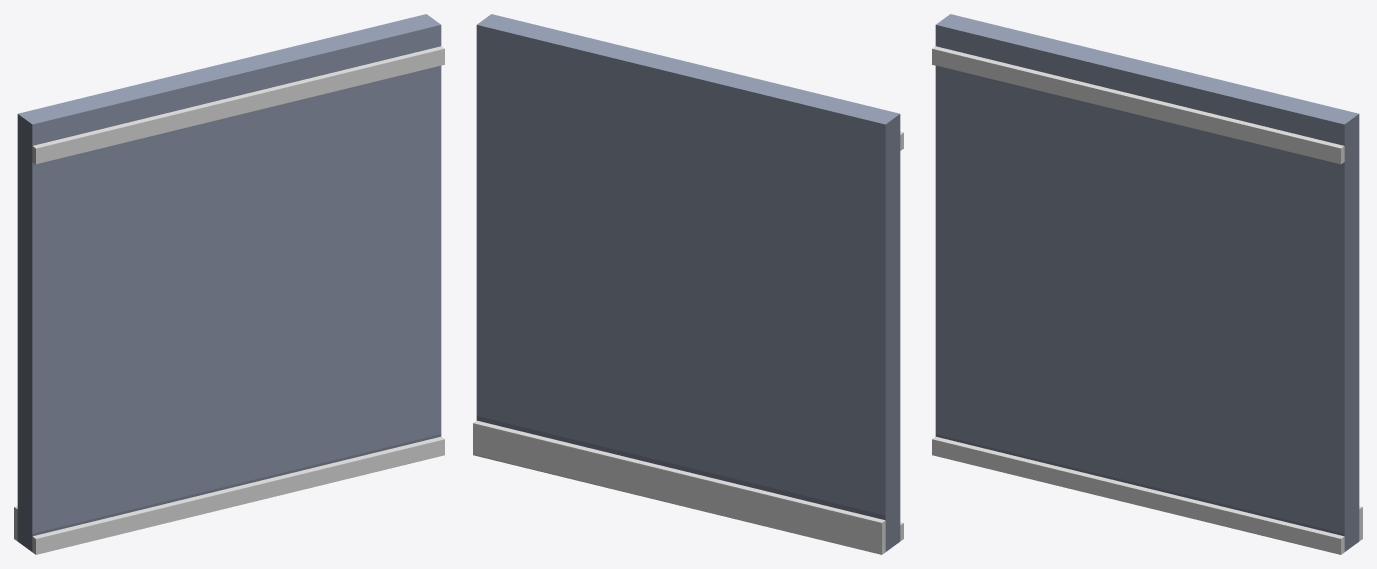
The model's file is office_pack_demoRoom_wall_large.fbx.
3 renders of one model, left to right at view 1: azimuth 30°, elevation 25°; view 2: azimuth 150°, elevation 25°; view 3: azimuth 330°, elevation 25°, orthographic.
Visible parts, largest first — view 1: office_pack_demoRoom_wall_large; view 2: office_pack_demoRoom_wall_large; view 3: office_pack_demoRoom_wall_large.
Boxes of the visible parts, x1,y1,x2,y2 form: office_pack_demoRoom_wall_large: (14, 14, 444, 554); office_pack_demoRoom_wall_large: (473, 14, 903, 554); office_pack_demoRoom_wall_large: (932, 14, 1362, 554).
Size of the model in its own units: 200 by 200 by 18.5.
